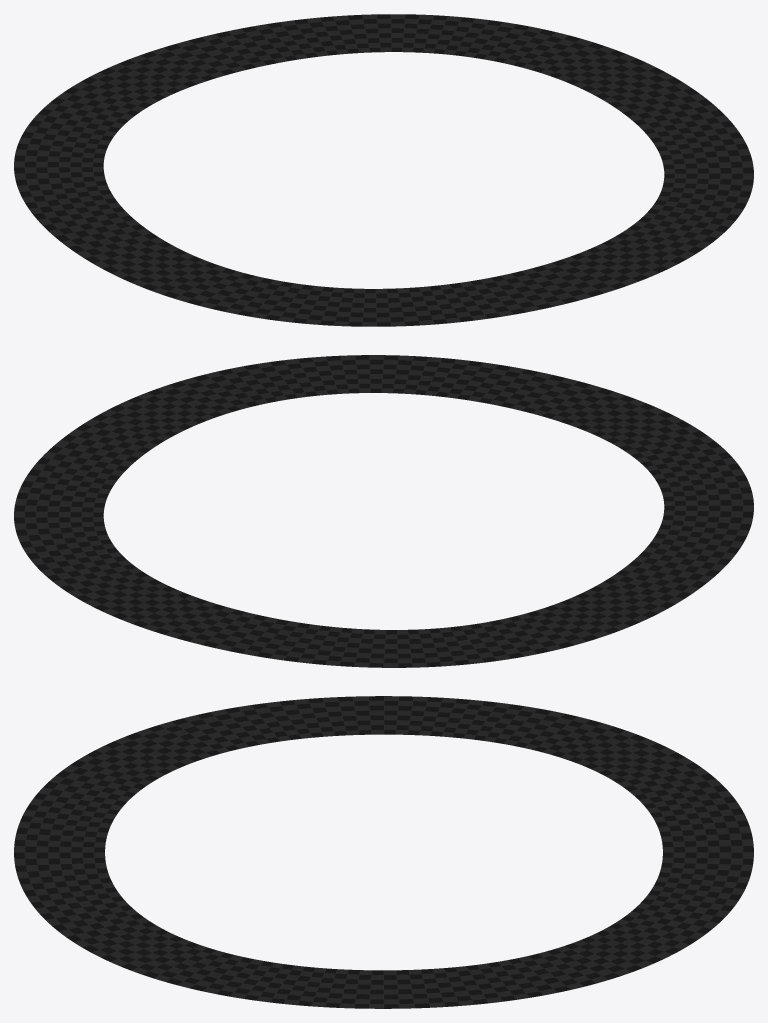
The model's file is Track_Road.glb.
3 renders of one model, top to bottom at view 1: azimuth 30°, elevation 25°; view 2: azimuth 150°, elevation 25°; view 3: azimuth 270°, elevation 25°, orthographic.
Parts seen in each view (by area): view 1: Track_Road; view 2: Track_Road; view 3: Track_Road.
Boxes of the visible parts, x1,y1,x2,y2 form: Track_Road: [14, 14, 753, 326]; Track_Road: [14, 355, 753, 667]; Track_Road: [14, 696, 753, 1008].
Bounding box in the file's own units: 103 × 6.11e-07 × 103.
1 material, 1 textured.
